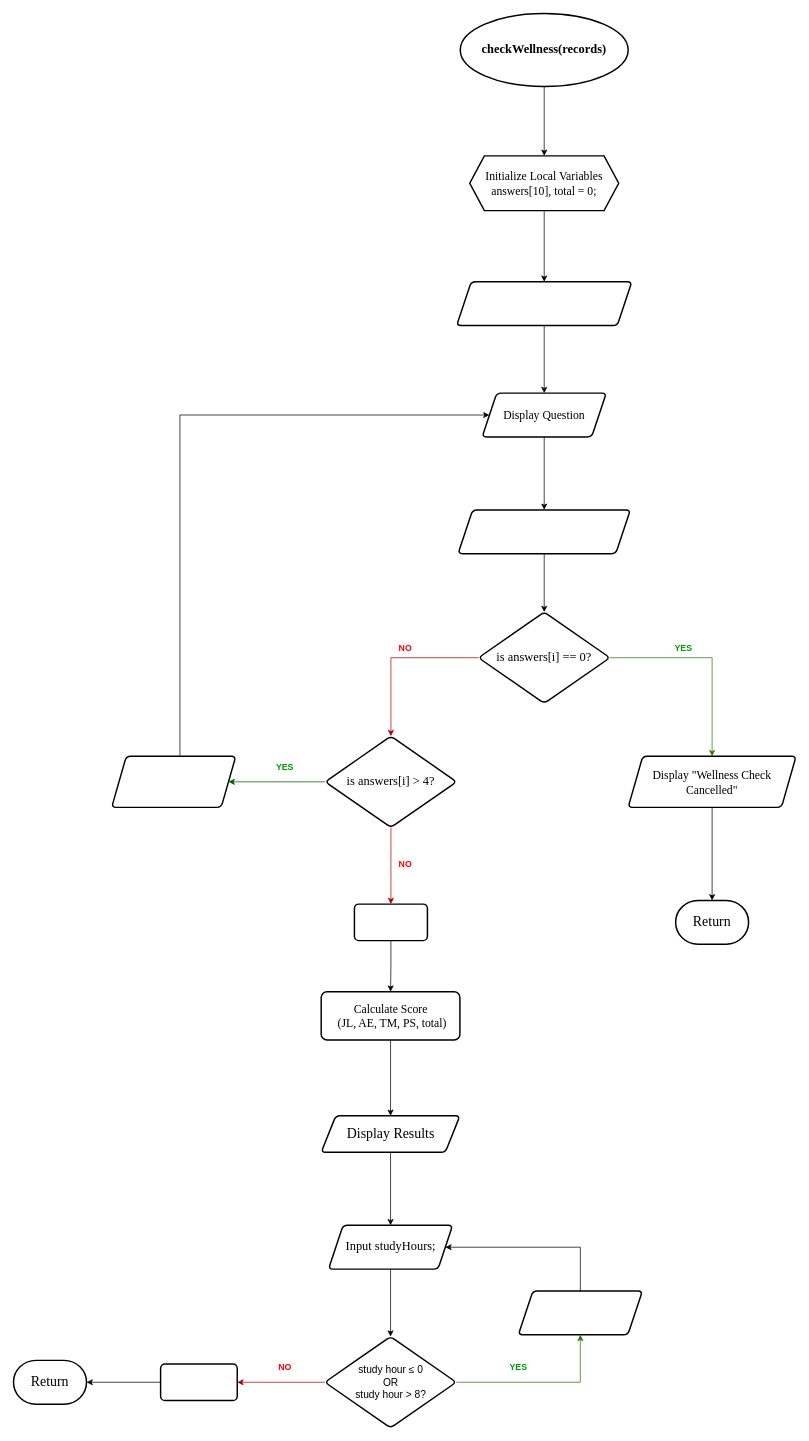
The diagram is 809 pixels wide and 1441 high, and some of its shapes have lost their labels. The shapes that lost their labels are listed below. From the top down, each one's centre as x and y in pixels, then its label:
point 544,303: Display Disclaimer and Scale
point 544,531: Get answers[i] via inputValidation(0, 4)
point 173,781: Output " Invalid answer!"
point 390,922: i++
point 580,1312: Output "Invalid hours"
point 199,1382: count++
